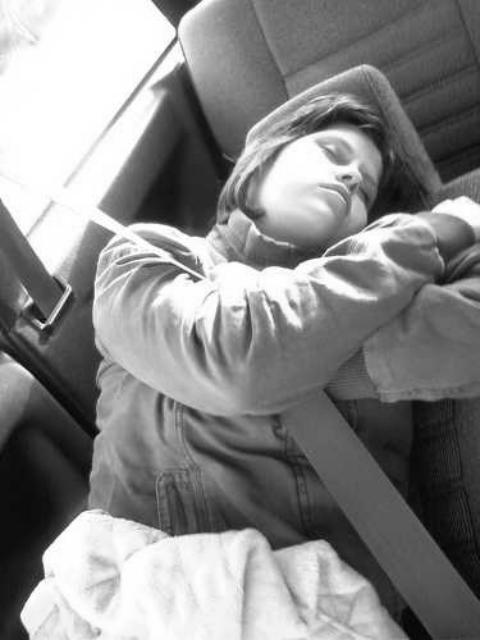Seatbelt: (90, 202, 480, 640)
